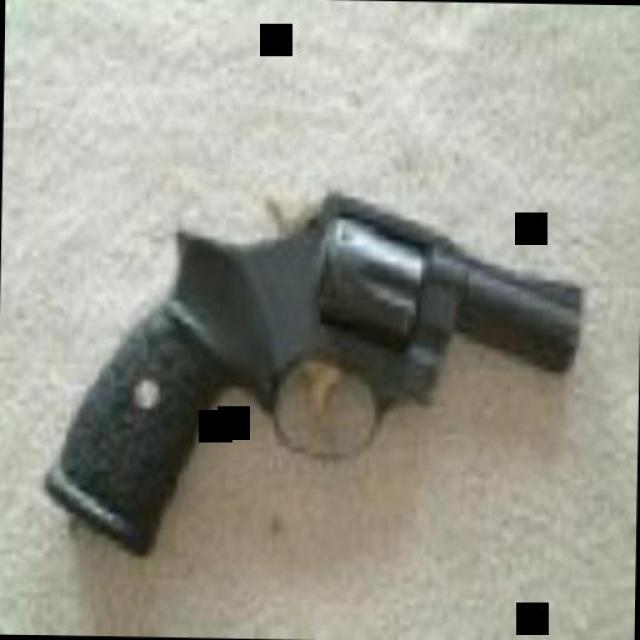gun: (39, 181, 572, 574)
